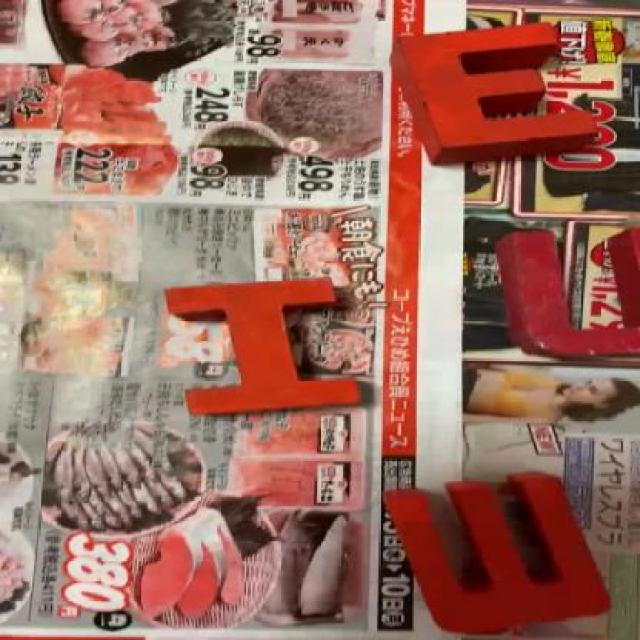E: (402, 20, 592, 158)
I: (169, 278, 366, 416)
W: (392, 471, 617, 623)
